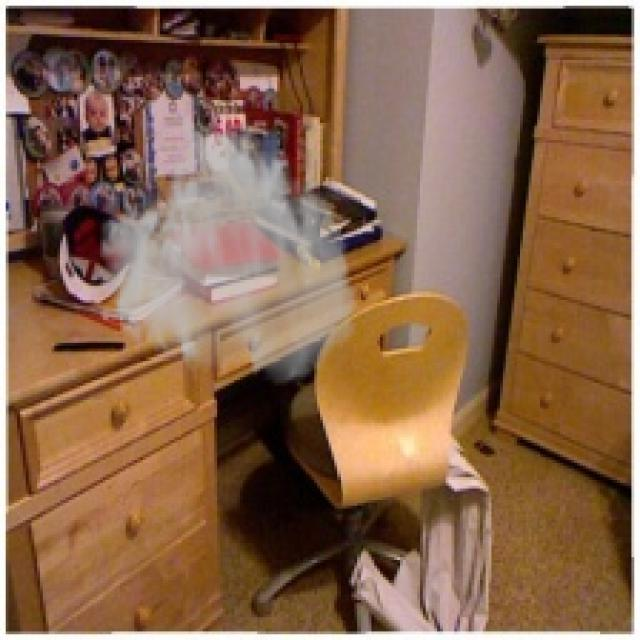smoke: (94, 112, 360, 388)
